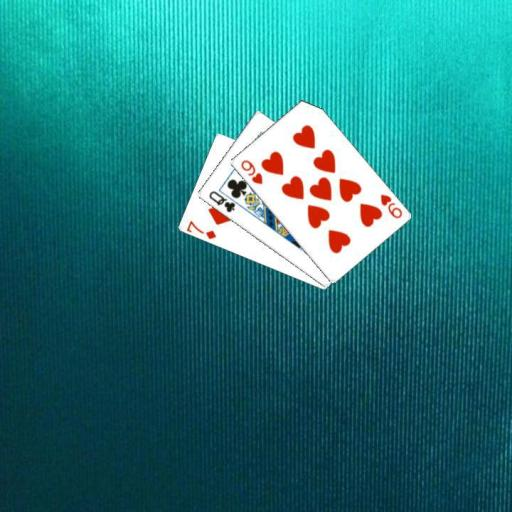7D: (184, 218, 218, 241)
9H: (237, 157, 264, 186), (377, 191, 403, 220)
QC: (205, 188, 237, 214)
